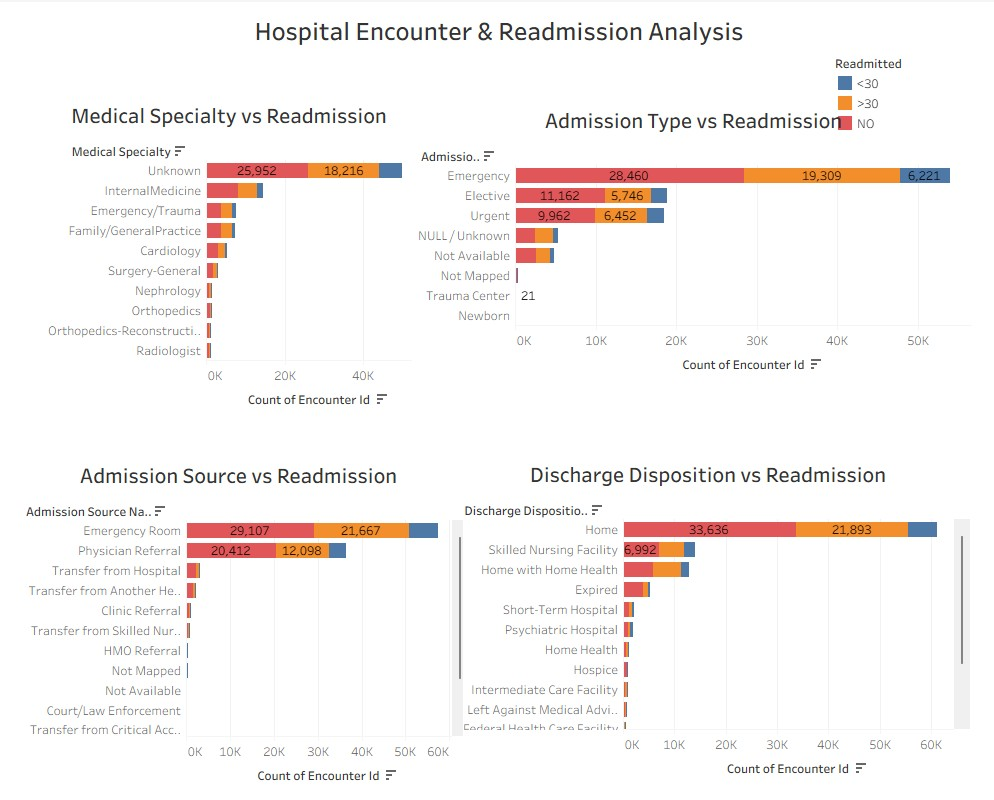

Layout of this report page (visuals, bound fields, positions):
{"tool":"tableau","page":{"name":"Hospital Encounter & Readmission Analysis","canvas":[1000,800],"ordinal":1},"visuals":[{"type":"title","box":[8,8,984,41]},{"type":"legend","title":"Medical specialty vs Readmission","param":"[federated.0oflpi203zwt6210qwj6h0exc8m3].[none:readmitted:nk]","box":[832,49,160,94]},{"type":"worksheet","title":"Medical specialty vs Readmission","mark":"Automatic","rows":["medical_specialty"],"cols":["encounter_id"],"box":[47,95,366,353]},{"type":"worksheet","title":"Admission Type vs Readmission","mark":"Automatic","rows":["Calculation_1822476295790592"],"cols":["encounter_id"],"box":[416,100,557,313]},{"type":"worksheet","title":"Discharge Disposition vs Readmission","mark":"Automatic","rows":["Calculation_1822476296814594"],"cols":["encounter_id"],"box":[464,454,507,328]},{"type":"worksheet","title":"Admission Source vs Readmission","mark":"Automatic","rows":["Calculation_1822476296601601"],"cols":["encounter_id"],"box":[27,455,442,334]}]}

Visuals, with their boxes in screenshot pixels (x1, y1, x2, y2), scaled from the page's 1000x800 canvas onto the 994x800 screenshot:
title: x1=8 y1=8 x2=986 y2=49
"Medical specialty vs Readmission" legend: x1=827 y1=49 x2=986 y2=143
"Medical specialty vs Readmission" worksheet: x1=47 y1=95 x2=411 y2=448
"Admission Type vs Readmission" worksheet: x1=414 y1=100 x2=967 y2=413
"Discharge Disposition vs Readmission" worksheet: x1=461 y1=454 x2=965 y2=782
"Admission Source vs Readmission" worksheet: x1=27 y1=455 x2=466 y2=789
